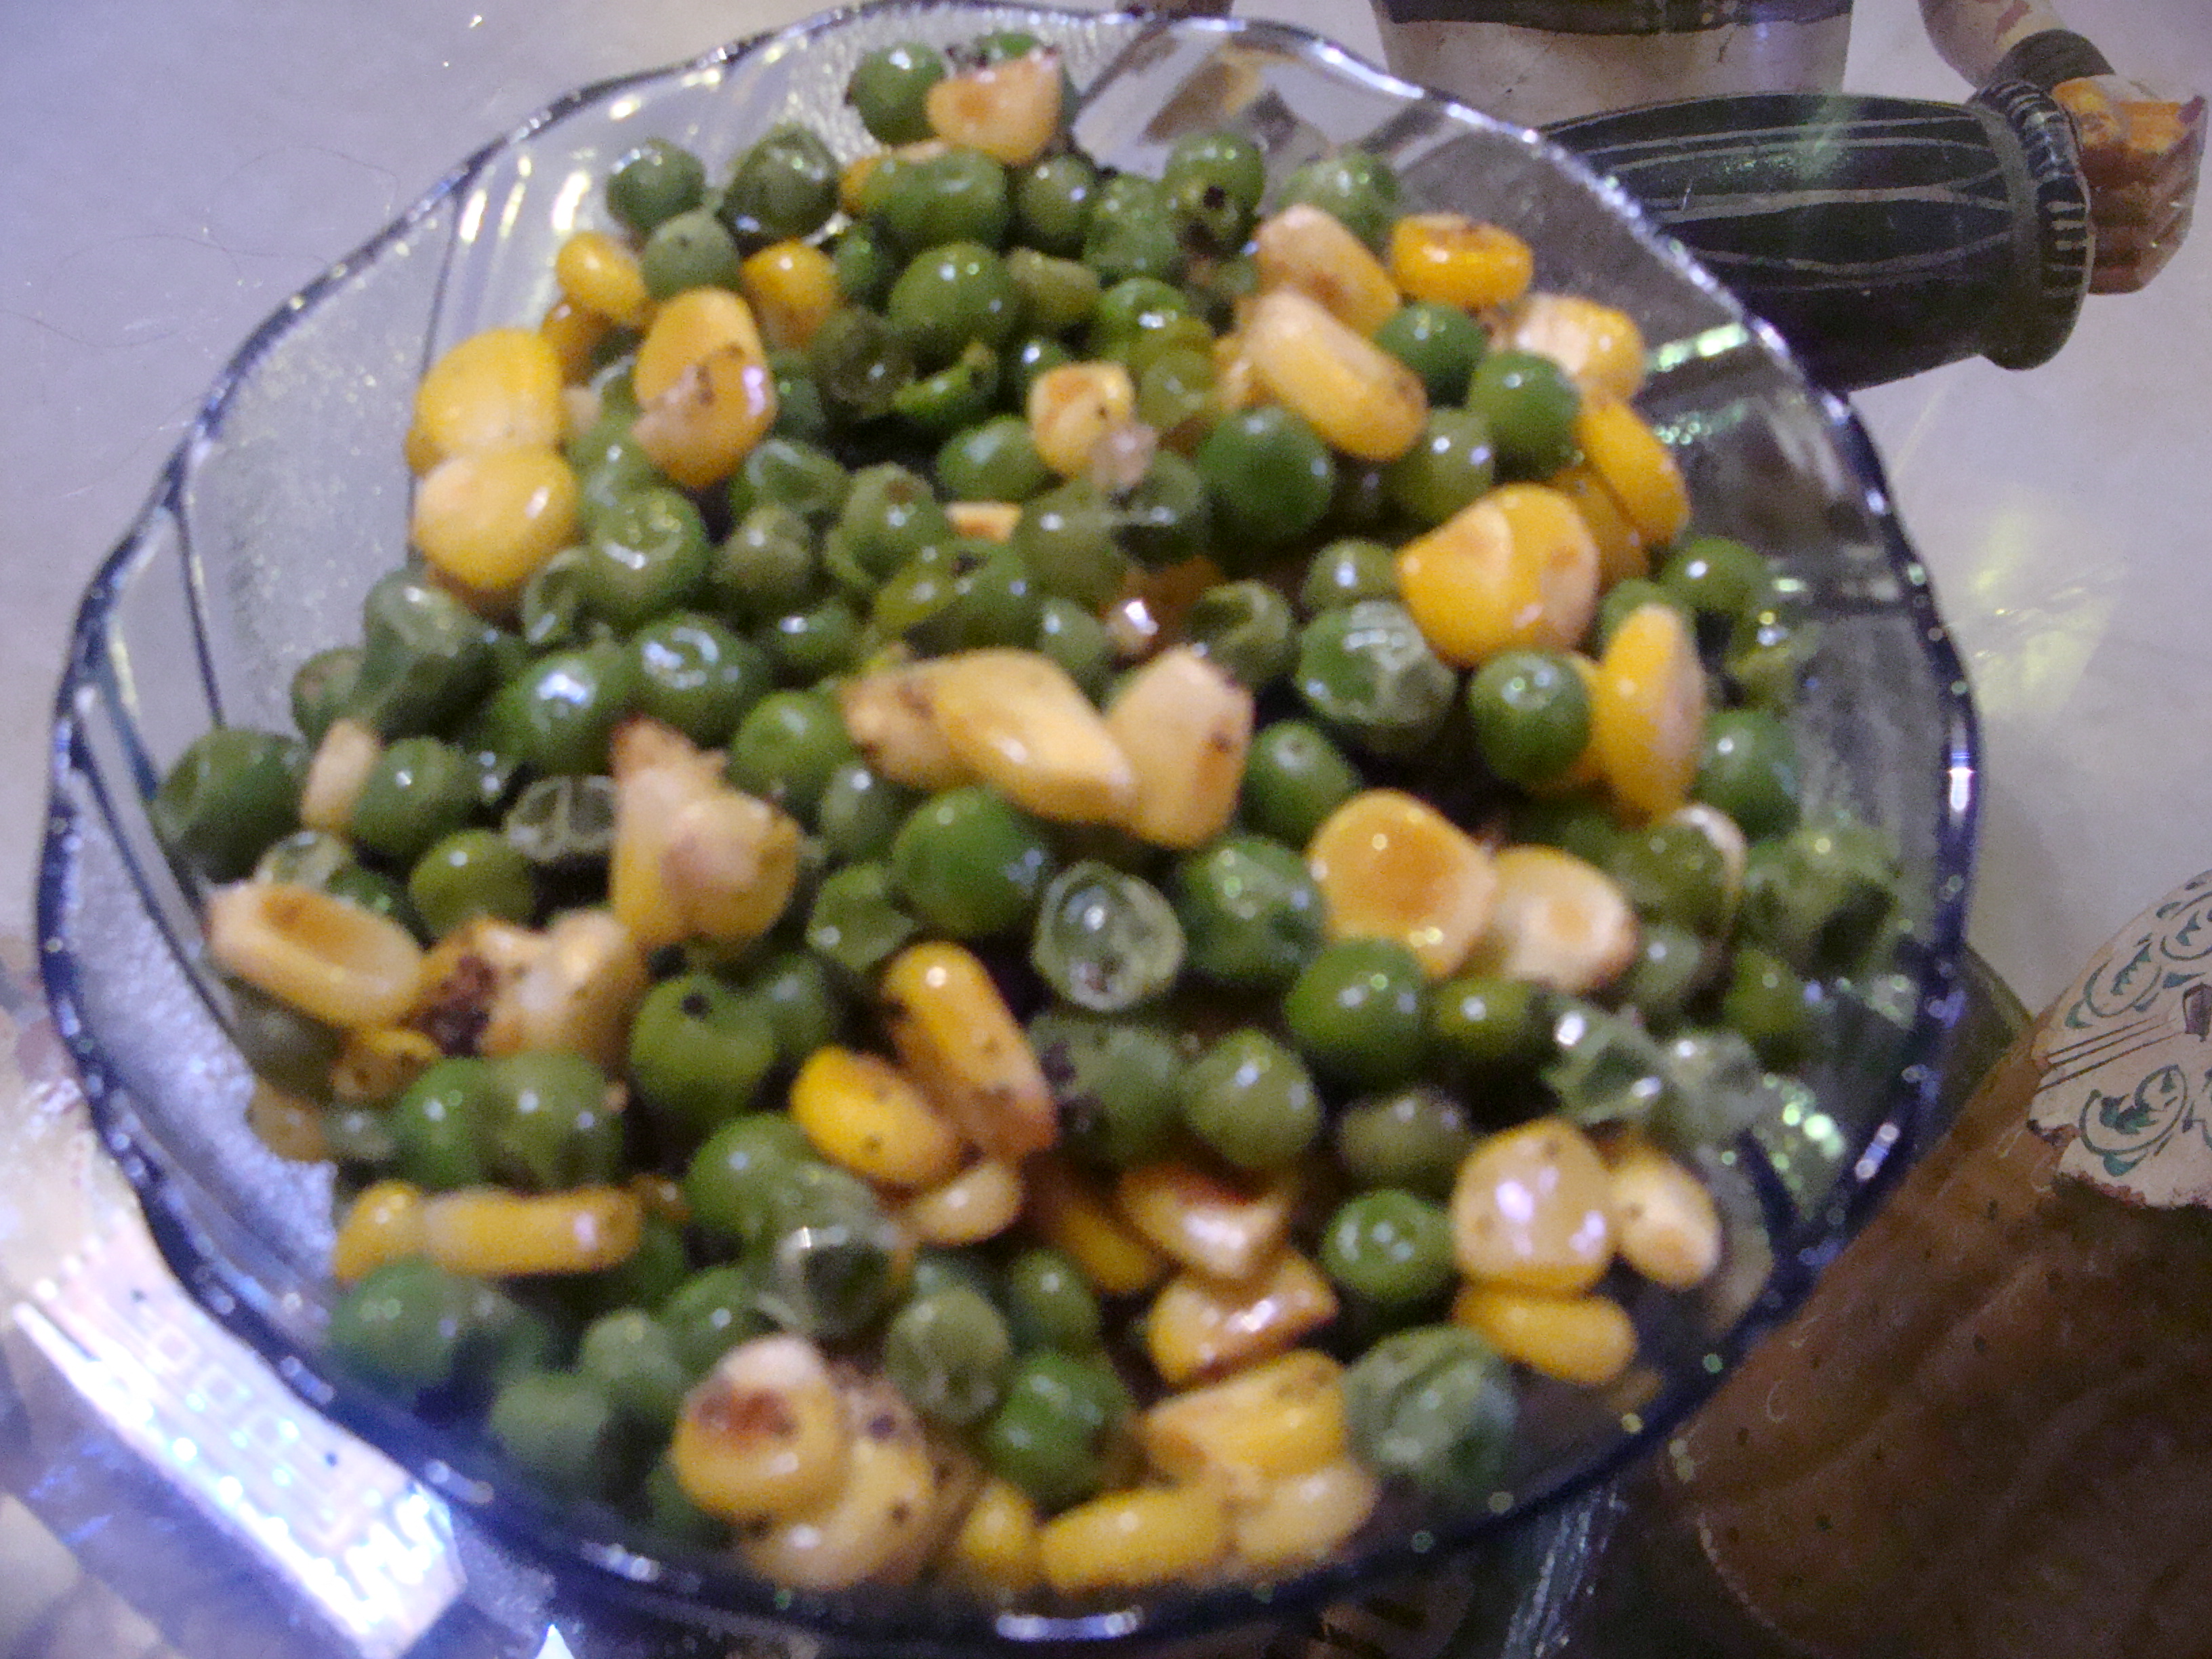boiled peas: (1066, 897, 1320, 1185), (575, 502, 834, 711)
